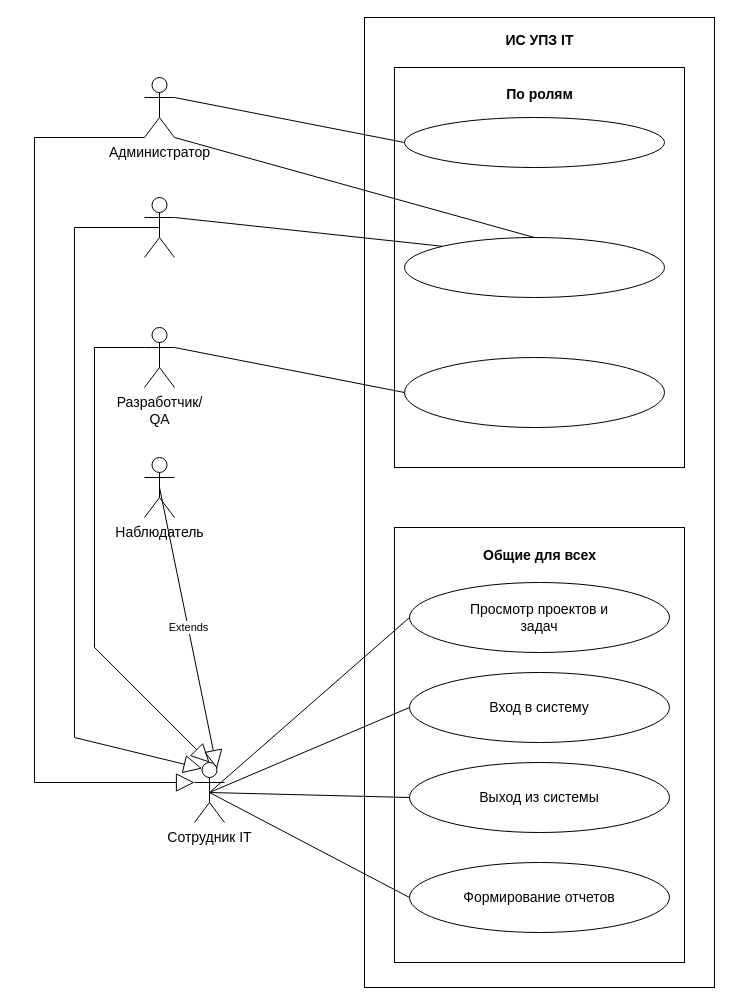
Image size: 732x1005. Some labels were removed from this diagram. The centre of each missing label's shape, as x and y in pixels:
Редактирование своих задач: pixel 534 392
Руководитель проекта/Тимлид: pixel 159 227
Управление пользователями и справочниками: pixel 534 142
Управление проектами, задачами и спринтами: pixel 534 267
